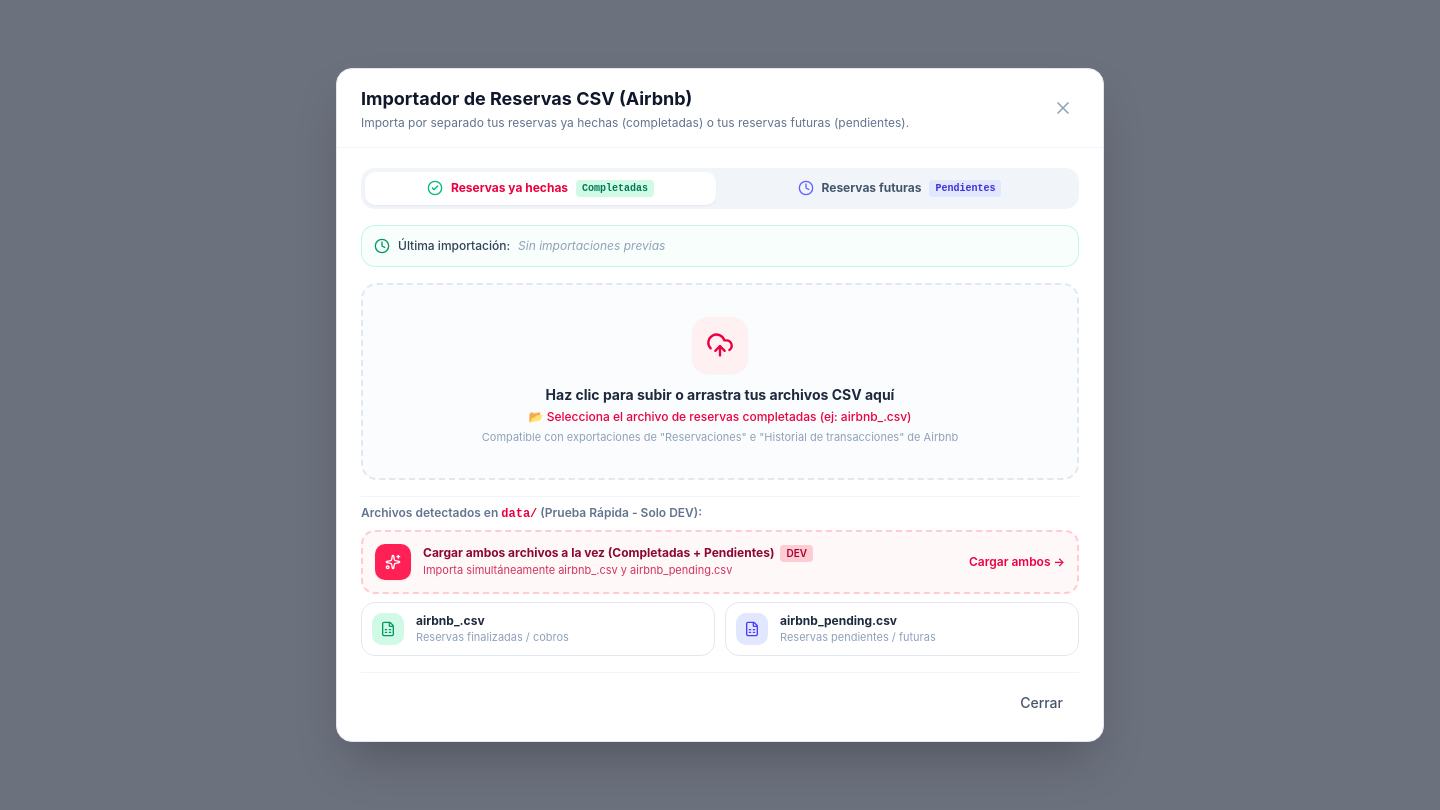
Scenario: CsvImportModal Component › does NOT mark direct bookings for deletion or update when importing an Airbnb CSV
Step 1. Click the text "airbnb_.csv" → (450, 620), box [416,613,485,628]
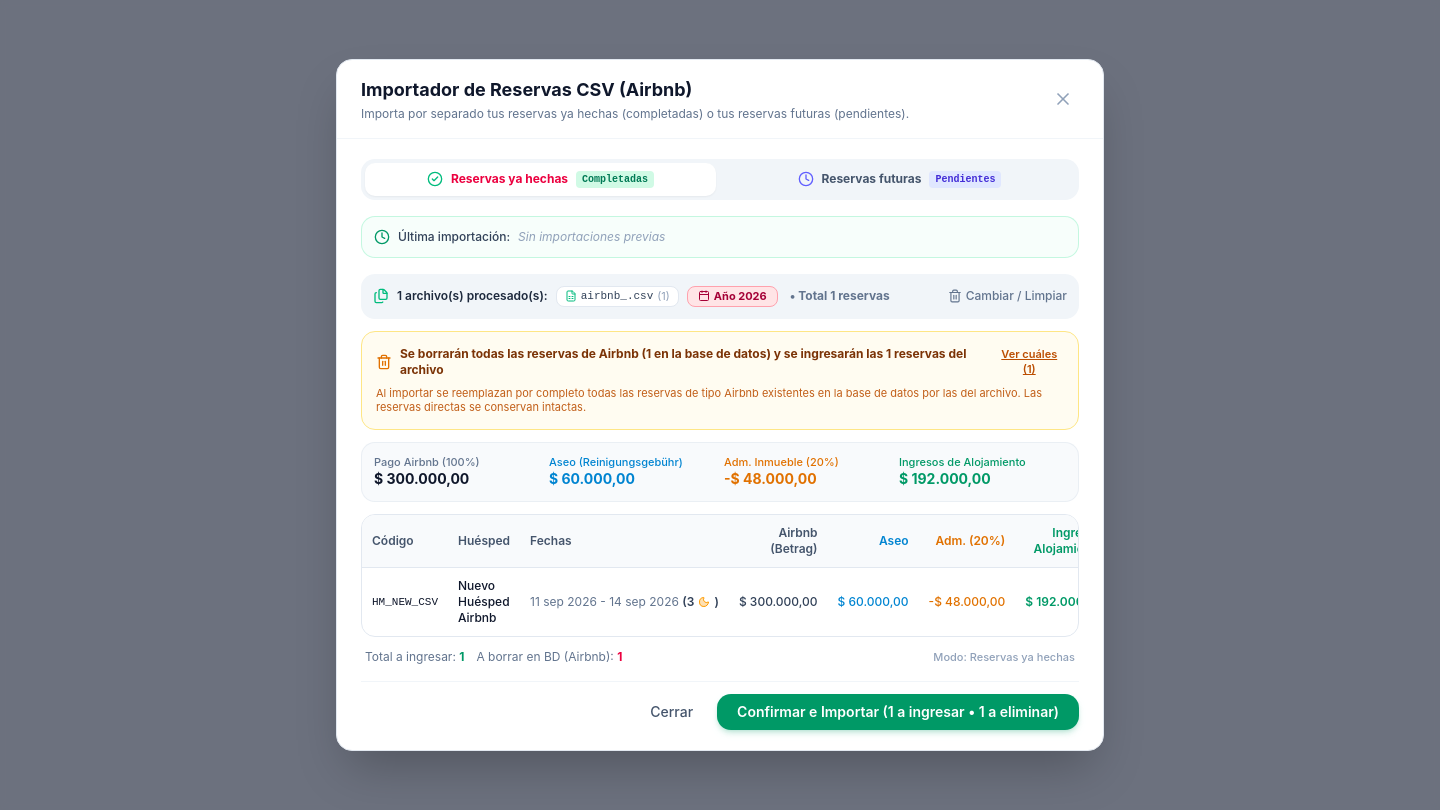
Result: the text "Se borrarán todas las reservas de Airbnb (1 en la base de datos)" is shown at [400,346,994,378]
